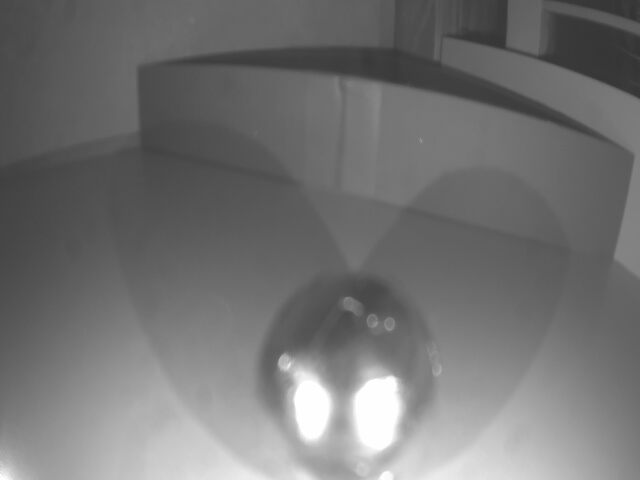Live: (259, 261, 440, 467)
Point: (127, 59, 632, 263)
